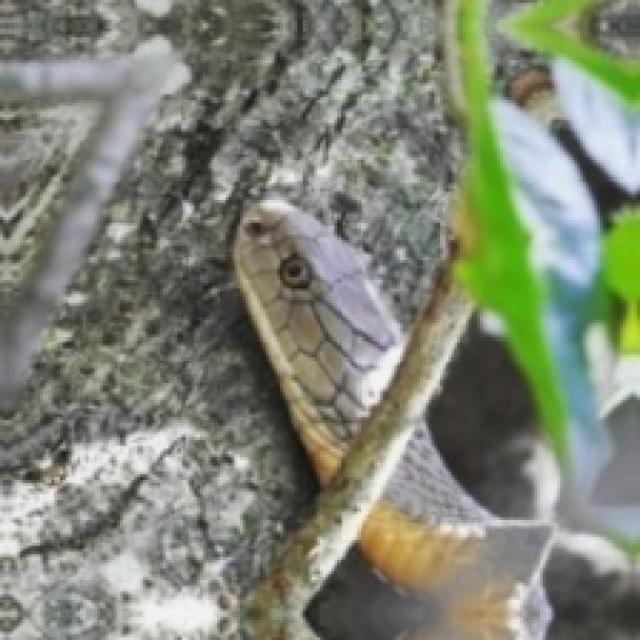king cobra: (234, 200, 551, 637)
